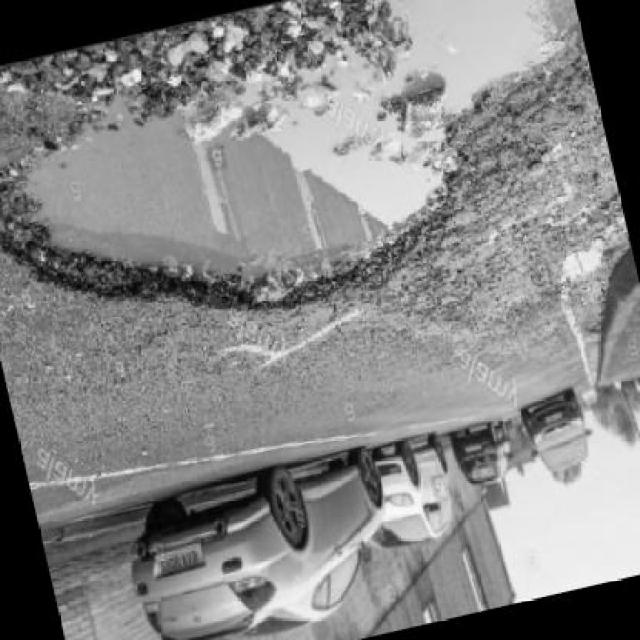pothole: (0, 0, 495, 381), (340, 0, 598, 157), (554, 245, 609, 292)
